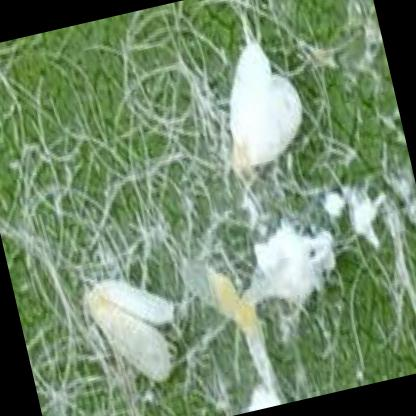whitefly: (228, 41, 303, 175), (87, 274, 175, 379)
